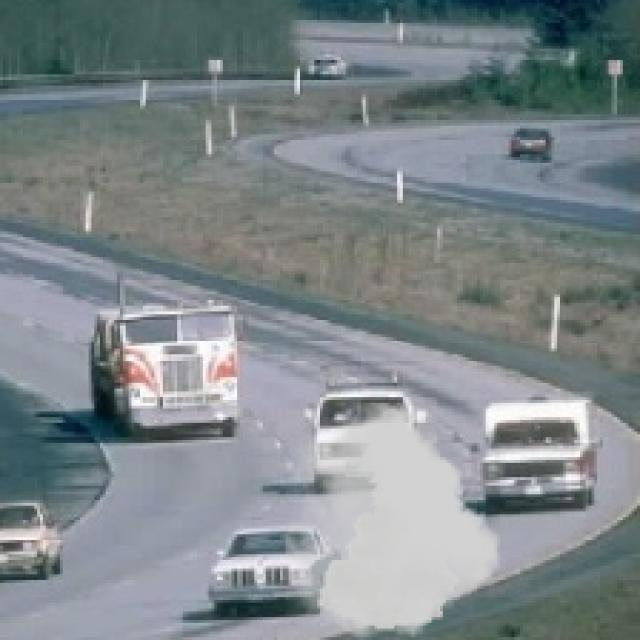Smoke: (286, 402, 503, 638)
